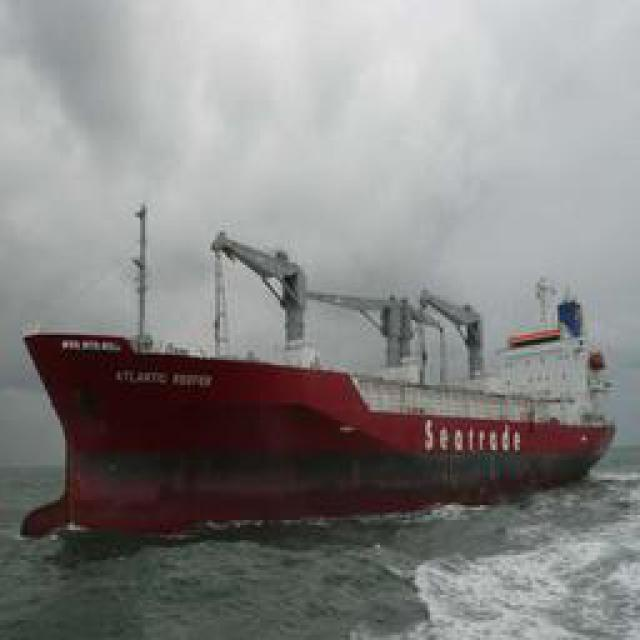Ship: (24, 189, 621, 550)
